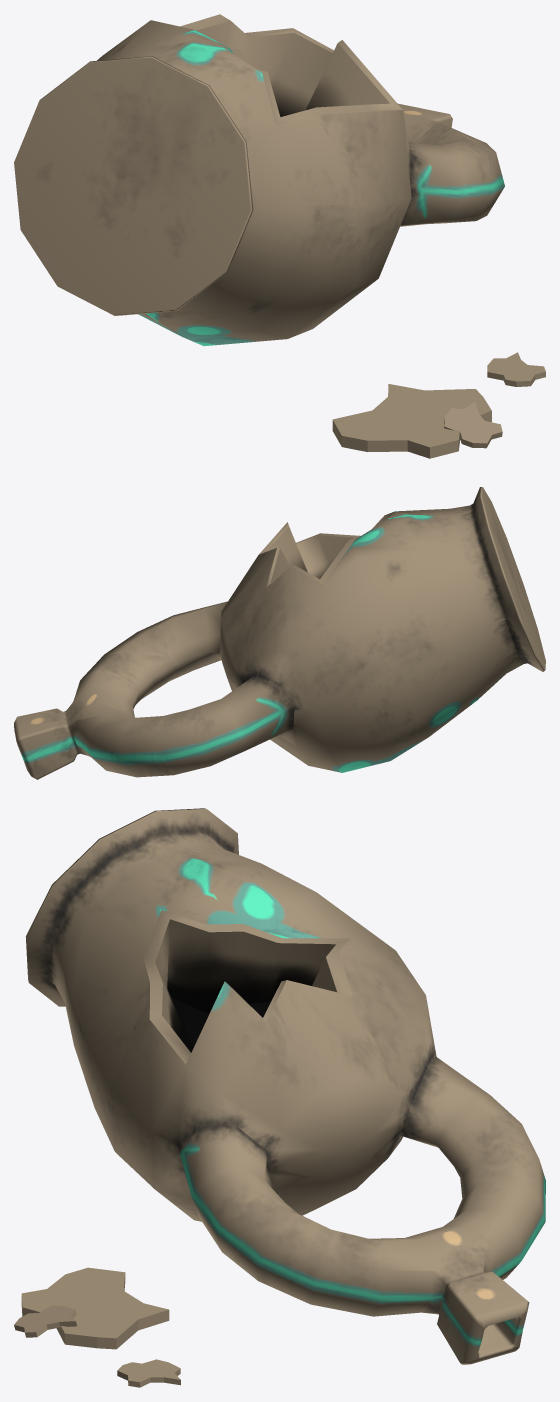
File: Vase_2_break_2.fbx
The picture shows the model from 3 angles, top to bottom: view 1: azimuth 30°, elevation 25°; view 2: azimuth 150°, elevation 25°; view 3: azimuth 270°, elevation 25°; orthographic projection. The views are drawn at different scales.
Parts seen in each view (by area): view 1: Vase_2_break_2; view 2: Vase_2_break_2; view 3: Vase_2_break_2.
Part boxes in pixels (x1=…): Vase_2_break_2: x1=14, y1=14, x2=545, y2=458; Vase_2_break_2: x1=14, y1=487, x2=545, y2=779; Vase_2_break_2: x1=14, y1=808, x2=545, y2=1387.
Size of the model in its own units: 88 by 59.74 by 73.21.
